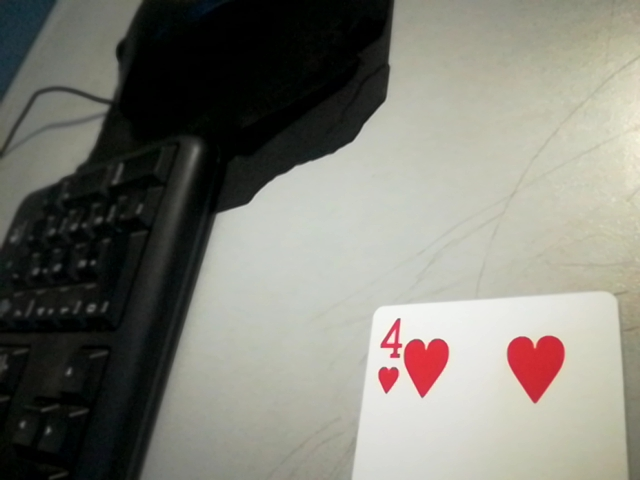hx 4: (366, 315, 408, 399)
